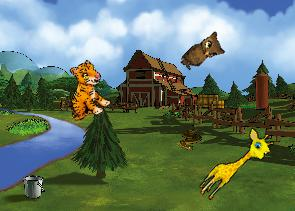giraffe: (194, 123, 278, 209)
owl: (178, 27, 230, 80)
tiger: (52, 57, 117, 126)
